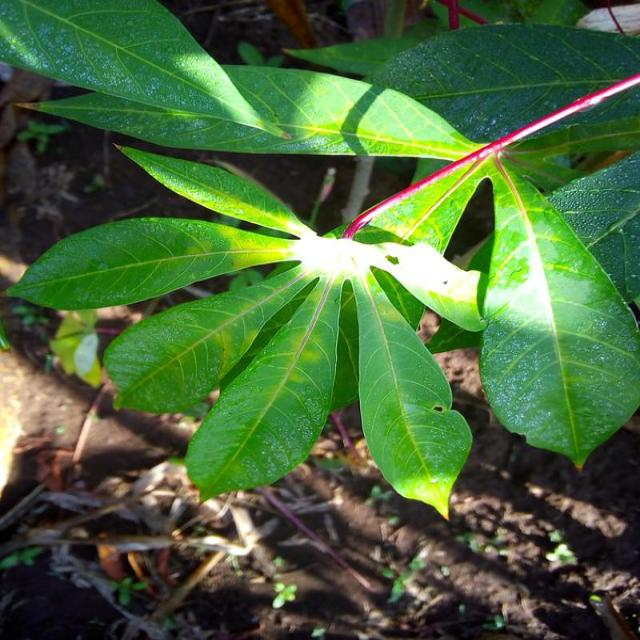cassava leaf: (2, 8, 638, 520), (476, 152, 638, 470)
